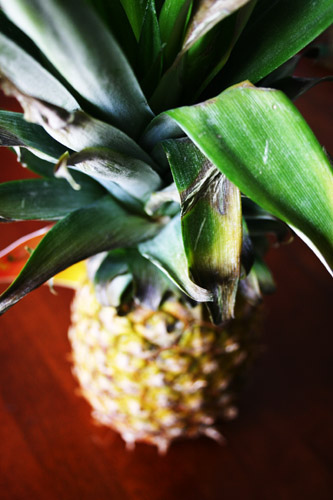pineapple: (2, 0, 331, 456)
